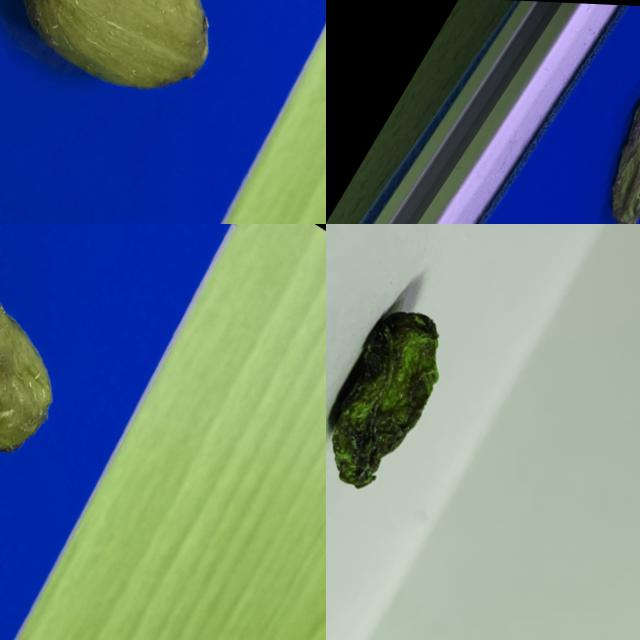Fine_cocoabeans: (0, 224, 177, 584), (0, 0, 279, 185)
Flat_cocoabeans: (326, 224, 522, 568), (483, 0, 639, 223)
